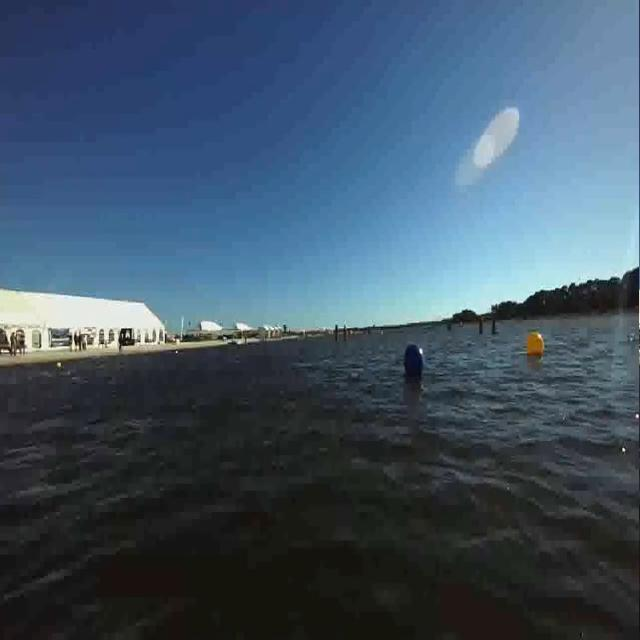blue-buoy: (403, 340, 425, 378)
yellow-buoy: (530, 331, 548, 361)
